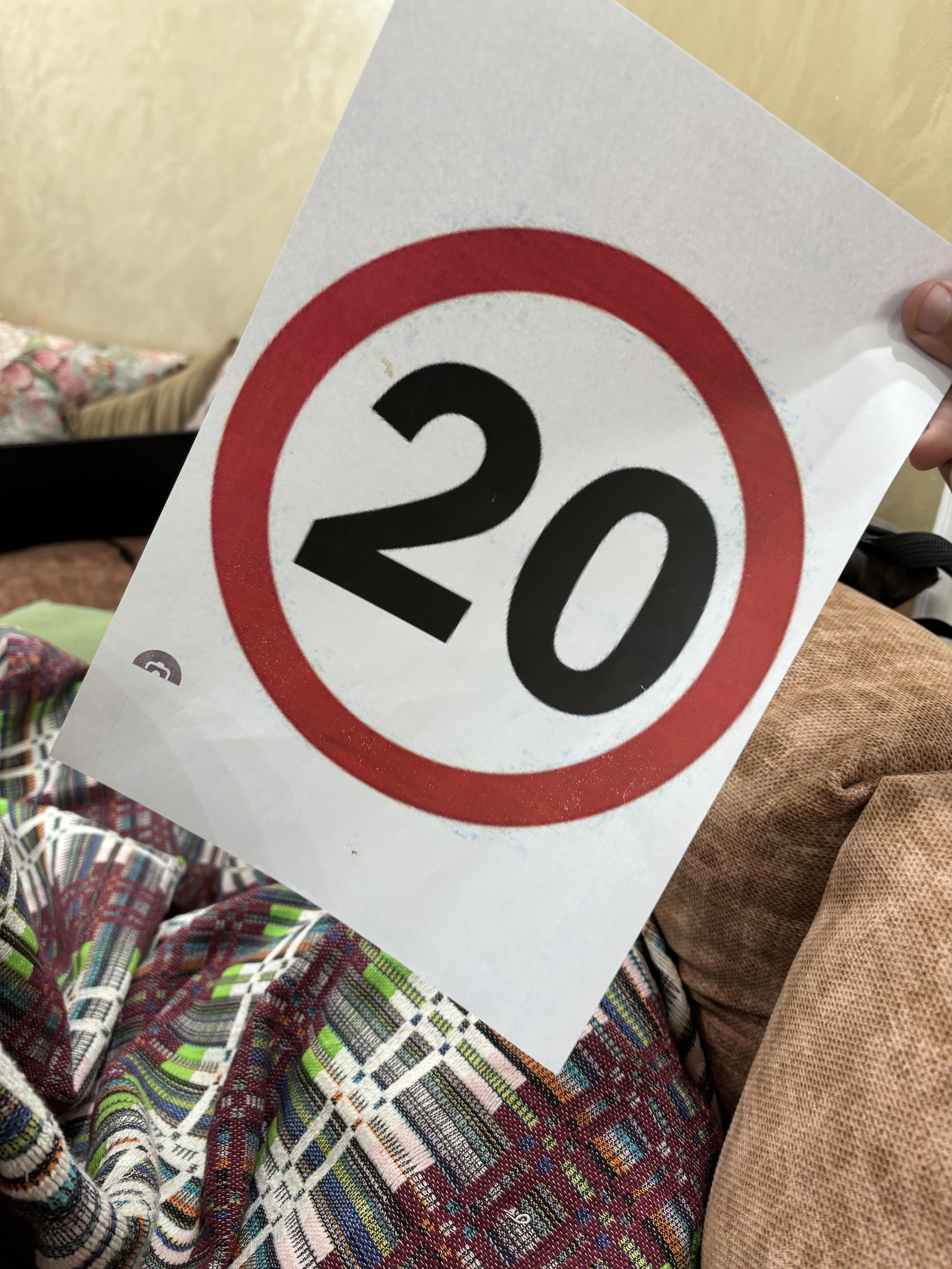20-Speed: (203, 218, 816, 831)
